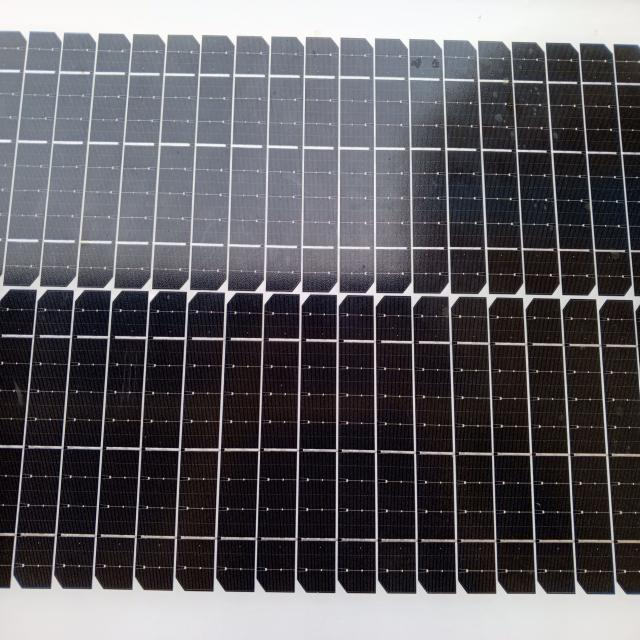Clean: (1, 13, 640, 614)
